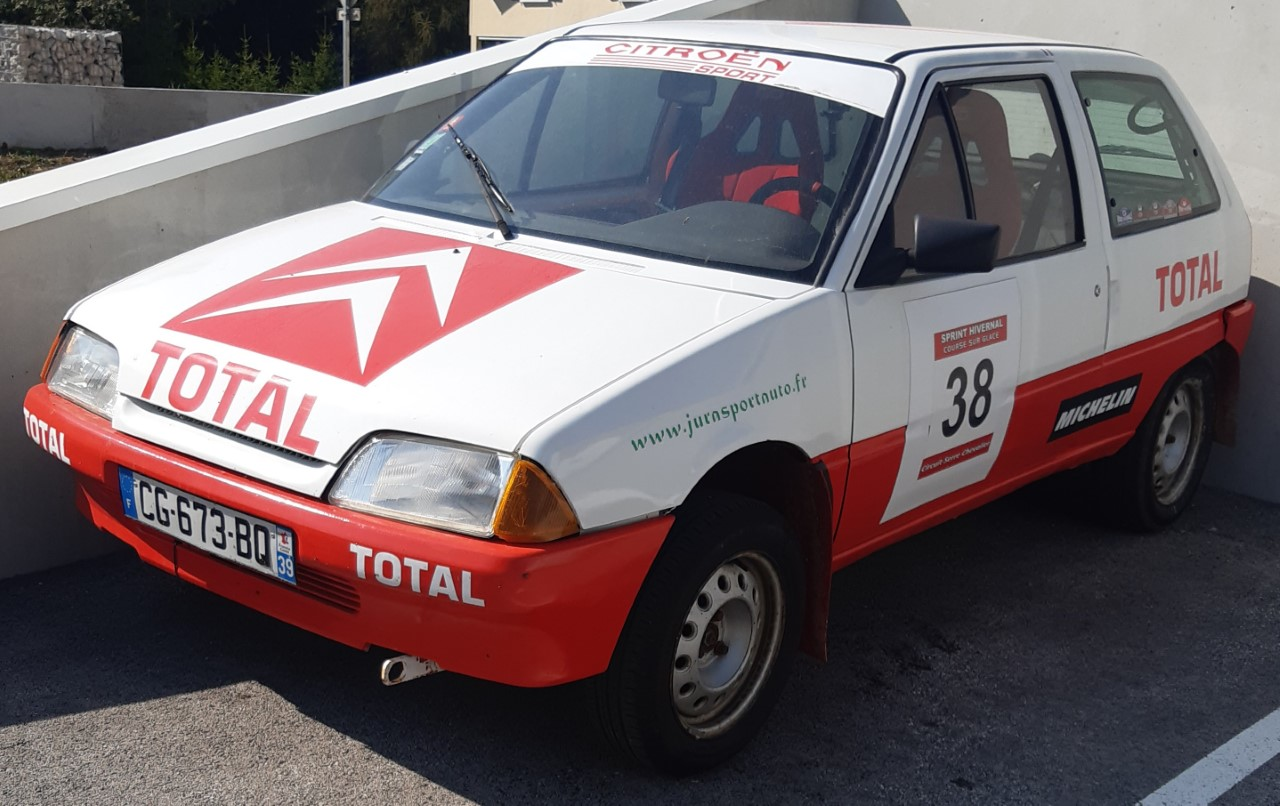licence plate: (113, 461, 300, 589)
